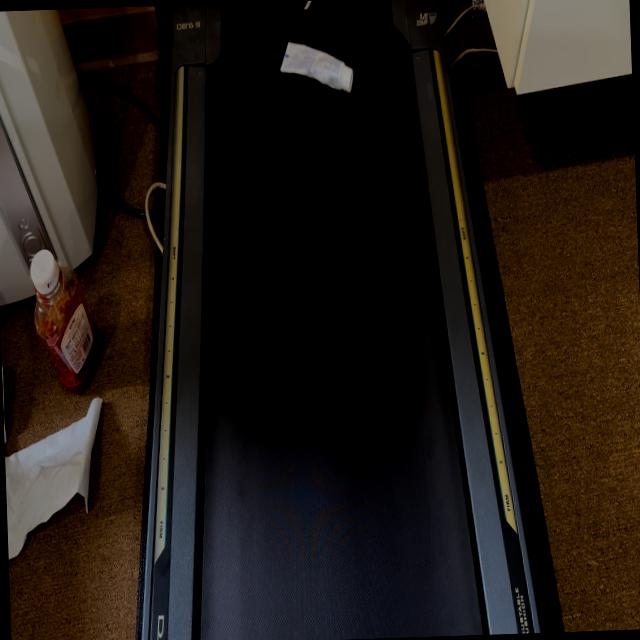Trash: (274, 42, 356, 100)
